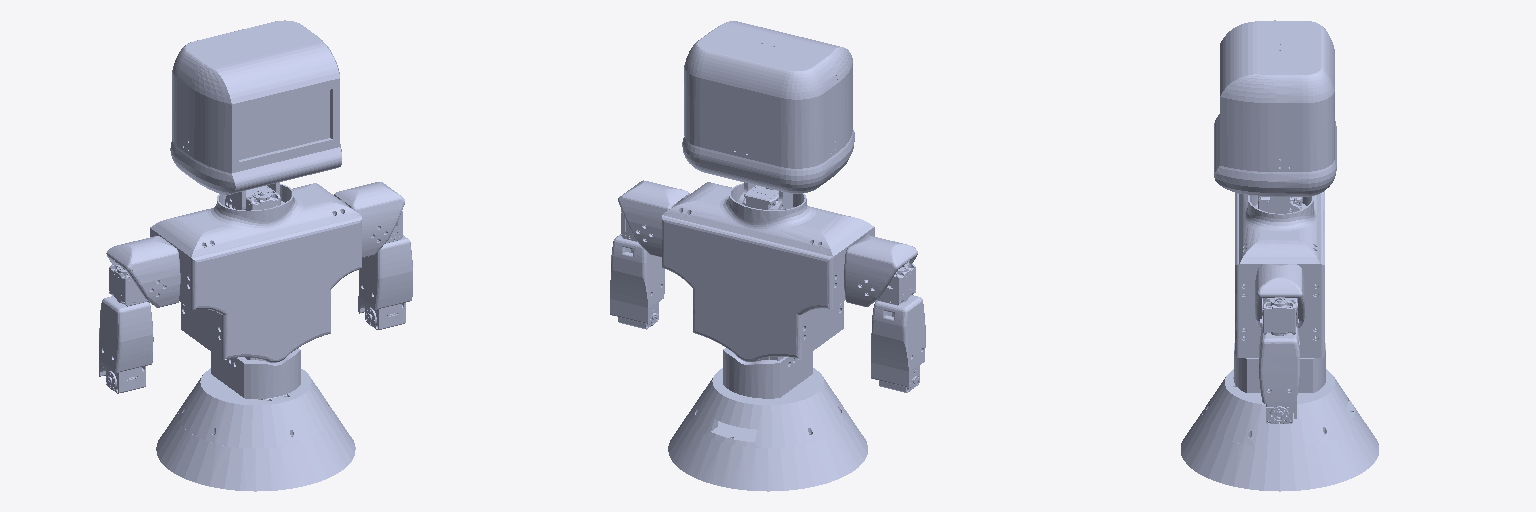
URDF robot description (yaren_description):
<?xml version="1.0" encoding="utf-8"?>
<!-- This URDF was automatically created by SolidWorks to URDF Exporter! Originally created by [author] ([email redacted]) 
     Commit Version: 1.6.0-4-g7f85cfe  Build Version: 1.6.7995.38578
     For more information, please see http://wiki.ros.org/sw_urdf_exporter -->
<robot
  name="yaren_description">
  
<link name="world"/>
 <joint name="base_joint" type="fixed">
    <parent link="world"/>
    <child link="base_link"/>
 <origin rpy="0 0 0" xyz="0.0 0.0 0.0"/>
 </joint>


  <link
    name="base_link">
    <inertial>
      <origin
        xyz="-0.0111941484552959 -0.0368458795873965 0.215654266051241"
        rpy="0 0 0" />
      <mass
        value="1.36786443462294" />
      <inertia
        ixx="0.00319634955740371"
        ixy="-1.60882455550443E-08"
        ixz="1.653324392476E-08"
        iyy="0.00601731472918889"
        iyz="4.74472482698139E-06"
        izz="0.00319515652843736" />
    </inertial>
    <visual>
      <origin
        xyz="0 0 0"
        rpy="0 0 0" />
      <geometry>
        <mesh
          filename="package://yaren_description/meshes/base_link.STL" />
      </geometry>
      <material
        name="">
        <color
          rgba="0.792156862745098 0.819607843137255 0.933333333333333 1" />
      </material>
    </visual>
    <collision>
      <origin
        xyz="0 0 0"
        rpy="0 0 0" />
      <geometry>
        <mesh
          filename="package://yaren_description/meshes/base_link.STL" />
      </geometry>
    </collision>
  </link>
  <link
    name="Link_1">
    <inertial>
      <origin
        xyz="-0.0005406 0.03067 1.1225E-05"
        rpy="0 0 0" />
      <mass
        value="0.2613" />
      <inertia
        ixx="0.00014283"
        ixy="-8.1832E-07"
        ixz="-7.2665E-08"
        iyy="0.0002383"
        iyz="2.7932E-08"
        izz="0.00019886" />
    </inertial>
    <visual>
      <origin
        xyz="0 0 0"
        rpy="0 0 0" />
      <geometry>
        <mesh
          filename="package://yaren_description/meshes/Link_1.STL" />
      </geometry>
      <material
        name="">
        <color
          rgba="0.79216 0.81961 0.93333 1" />
      </material>
    </visual>
    <collision>
      <origin
        xyz="0 0 0"
        rpy="0 0 0" />
      <geometry>
        <mesh
          filename="package://yaren_description/meshes/Link_1.STL" />
      </geometry>
    </collision>
  </link>
  <joint
    name="Joint_1"
    type="continuous">
    <origin
      xyz="-0.011194 -0.21508 0.020523"
      rpy="1.5708 0 1.5708" />
    <parent
      link="base_link" />
    <child
      link="Link_1" />
    <axis
      xyz="0 1 0" />
    <limit
      lower="-0.7853"
      upper="0.7853"
      effort="8"
      velocity="3" />
  </joint>
  <link
    name="Link_2">
    <inertial>
      <origin
        xyz="-0.000190222232464078 0.0708879423019347 0.000625518405545505"
        rpy="0 0 0" />
      <mass
        value="0.752173682094854" />
      <inertia
        ixx="0.00132133401185399"
        ixy="2.62707187219377E-06"
        ixz="-3.81385205187914E-07"
        iyy="0.00295410852126555"
        iyz="3.20008645844586E-06"
        izz="0.00376203398380604" />
    </inertial>
    <visual>
      <origin
        xyz="0 0 0"
        rpy="0 0 0" />
      <geometry>
        <mesh
          filename="package://yaren_description/meshes/Link_2.STL" />
      </geometry>
      <material
        name="">
        <color
          rgba="0.792156862745098 0.819607843137255 0.933333333333333 1" />
      </material>
    </visual>
    <collision>
      <origin
        xyz="0 0 0"
        rpy="0 0 0" />
      <geometry>
        <mesh
          filename="package://yaren_description/meshes/Link_2.STL" />
      </geometry>
    </collision>
  </link>
  <joint
    name="Joint_2"
    type="continuous">
    <origin
      xyz="0 0.0715 0"
      rpy="0 1.5708 0" />
    <parent
      link="Link_1" />
    <child
      link="Link_2" />
    <axis
      xyz="0 0 -1" />
    <limit
      lower="-0.5235"
      upper="0.5235"
      effort="8"
      velocity="3" />
  </joint>
  <link
    name="Link_3">
    <inertial>
      <origin
        xyz="0.000495971669348293 -0.0119998498234008 0.0204959038479089"
        rpy="0 0 0" />
      <mass
        value="0.0569176449626117" />
      <inertia
        ixx="1.43924905181448E-05"
        ixy="5.82487770418226E-10"
        ixz="3.44003420258986E-07"
        iyy="1.02302750414368E-05"
        iyz="-7.69908311920794E-10"
        izz="1.43925070402999E-05" />
    </inertial>
    <visual>
      <origin
        xyz="0 0 0"
        rpy="0 0 0" />
      <geometry>
        <mesh
          filename="package://yaren_description/meshes/Link_3.STL" />
      </geometry>
      <material
        name="">
        <color
          rgba="0.792156862745098 0.819607843137255 0.933333333333333 1" />
      </material>
    </visual>
    <collision>
      <origin
        xyz="0 0 0"
        rpy="0 0 0" />
      <geometry>
        <mesh
          filename="package://yaren_description/meshes/Link_3.STL" />
      </geometry>
    </collision>
  </link>
  <joint
    name="Joint_3"
    type="continuous">
    <origin
      xyz="0 0.1145 -0.012"
      rpy="-1.5708 0 0" />
    <parent
      link="Link_2" />
    <child
      link="Link_3" />
    <axis
      xyz="0 0 1" />
    <limit
      lower="-0.5235"
      upper="0.5235"
      effort="1.6"
      velocity="3" />
  </joint>
  <link
    name="Link_4">
    <inertial>
      <origin
        xyz="0.0257730881315095 0.110638538546991 -2.15593630046793E-05"
        rpy="0 0 0" />
      <mass
        value="0.654995275916393" />
      <inertia
        ixx="0.00271318373791796"
        ixy="-0.000252216333937308"
        ixz="3.36179957582485E-08"
        iyy="0.00217737319159254"
        iyz="-8.29088092668815E-08"
        izz="0.00164342941943313" />
    </inertial>
    <visual>
      <origin
        xyz="0 0 0"
        rpy="0 0 0" />
      <geometry>
        <mesh
          filename="package://yaren_description/meshes/Link_4.STL" />
      </geometry>
      <material
        name="">
        <color
          rgba="0.792156862745098 0.819607843137255 0.933333333333333 1" />
      </material>
    </visual>
    <collision>
      <origin
        xyz="0 0 0"
        rpy="0 0 0" />
      <geometry>
        <mesh
          filename="package://yaren_description/meshes/Link_4.STL" />
      </geometry>
    </collision>
  </link>
  <joint
    name="Joint_4"
    type="continuous">
    <origin
      xyz="0 -0.024 0.02"
      rpy="1.5708 0 1.5708" />
    <parent
      link="Link_3" />
    <child
      link="Link_4" />
    <axis
      xyz="0 0 -1" />
    <limit
      lower="-0.2617"
      upper="0.7853"
      effort="1.6"
      velocity="3" />
  </joint>
  <link
    name="Link_5">
    <inertial>
      <origin
        xyz="-0.0259375957022937 -0.00908743775212059 0.000103197554779999"
        rpy="0 0 0" />
      <mass
        value="0.0584361592248743" />
      <inertia
        ixx="4.61729756791954E-05"
        ixy="7.84451983246522E-06"
        ixz="3.48634553727113E-08"
        iyy="4.22765133678202E-05"
        iyz="4.9258866345132E-08"
        izz="4.20873707387468E-05" />
    </inertial>
    <visual>
      <origin
        xyz="0 0 0"
        rpy="0 0 0" />
      <geometry>
        <mesh
          filename="package://yaren_description/meshes/Link_5.STL" />
      </geometry>
      <material
        name="">
        <color
          rgba="0.792156862745098 0.819607843137255 0.933333333333333 1" />
      </material>
    </visual>
    <collision>
      <origin
        xyz="0 0 0"
        rpy="0 0 0" />
      <geometry>
        <mesh
          filename="package://yaren_description/meshes/Link_5.STL" />
      </geometry>
    </collision>
  </link>
  <joint
    name="Joint_5"
    type="continuous">
    <origin
      xyz="0.10575 0.09925 0"
      rpy="3.1416 0 3.1416" />
    <parent
      link="Link_2" />
    <child
      link="Link_5" />
    <axis
      xyz="-1 0 0" />
    <limit
      lower="-0.7853"
      upper="1.5708"
      effort="1.6"
      velocity="3" />
  </joint>
  <link
    name="Link_6">
    <inertial>
      <origin
        xyz="0.00049597 -0.012 0.0009664"
        rpy="0 0 0" />
      <mass
        value="0.056918" />
      <inertia
        ixx="1.4392E-05"
        ixy="5.8249E-10"
        ixz="3.44E-07"
        iyy="1.023E-05"
        iyz="-7.6991E-10"
        izz="1.4393E-05" />
    </inertial>
    <visual>
      <origin
        xyz="0 0 0"
        rpy="0 0 0" />
      <geometry>
        <mesh
          filename="package://yaren_description/meshes/Link_6.STL" />
      </geometry>
      <material
        name="">
        <color
          rgba="0.79216 0.81961 0.93333 1" />
      </material>
    </visual>
    <collision>
      <origin
        xyz="0 0 0"
        rpy="0 0 0" />
      <geometry>
        <mesh
          filename="package://yaren_description/meshes/Link_6.STL" />
      </geometry>
    </collision>
  </link>
  <joint
    name="Joint_6"
    type="continuous">
    <origin
      xyz="-0.031746 -0.0195 0"
      rpy="0 0 -1.5708" />
    <parent
      link="Link_5" />
    <child
      link="Link_6" />
    <axis
      xyz="0 0 -1" />
    <limit
      lower="0"
      upper="1.0472"
      effort="1.6"
      velocity="3" />
  </joint>
  <link
    name="Link_7">
    <inertial>
      <origin
        xyz="0.054314 -0.00044243 0.0001739"
        rpy="0 0 0" />
      <mass
        value="0.11298" />
      <inertia
        ixx="3.5352E-05"
        ixy="1.8584E-06"
        ixz="-1.6775E-07"
        iyy="6.1931E-05"
        iyz="7.6246E-08"
        izz="6.332E-05" />
    </inertial>
    <visual>
      <origin
        xyz="0 0 0"
        rpy="0 0 0" />
      <geometry>
        <mesh
          filename="package://yaren_description/meshes/Link_7.STL" />
      </geometry>
      <material
        name="">
        <color
          rgba="0.79216 0.81961 0.93333 1" />
      </material>
    </visual>
    <collision>
      <origin
        xyz="0 0 0"
        rpy="0 0 0" />
      <geometry>
        <mesh
          filename="package://yaren_description/meshes/Link_7.STL" />
      </geometry>
    </collision>
  </link>
  <joint
    name="Joint_7"
    type="continuous">
    <origin
      xyz="0.019 -0.024 0.00047052"
      rpy="1.5708 0 0" />
    <parent
      link="Link_6" />
    <child
      link="Link_7" />
    <axis
      xyz="-1 0 0" />
    <limit
      lower="-0.7853"
      upper="0.7853"
      effort="1.6"
      velocity="3" />
  </joint>
  <link
    name="Link_8">
    <inertial>
      <origin
        xyz="-0.0406501147947644 -0.00104645226824338 -0.00681375552158017"
        rpy="0 0 0" />
      <mass
        value="0.0489075786054985" />
      <inertia
        ixx="1.84365898866349E-05"
        ixy="-2.71874728346205E-06"
        ixz="3.04771644692066E-06"
        iyy="3.91073424807853E-05"
        iyz="1.74082743559878E-07"
        izz="4.33443091972181E-05" />
    </inertial>
    <visual>
      <origin
        xyz="0 0 0"
        rpy="0 0 0" />
      <geometry>
        <mesh
          filename="package://yaren_description/meshes/Link_8.STL" />
      </geometry>
      <material
        name="">
        <color
          rgba="0.792156862745098 0.819607843137255 0.933333333333333 1" />
      </material>
    </visual>
    <collision>
      <origin
        xyz="0 0 0"
        rpy="0 0 0" />
      <geometry>
        <mesh
          filename="package://yaren_description/meshes/Link_8.STL" />
      </geometry>
    </collision>
  </link>
  <joint
    name="Joint_8"
    type="continuous">
    <origin
      xyz="0.09125 0 0"
      rpy="1.5708 0 -2.9337" />
    <parent
      link="Link_7" />
    <child
      link="Link_8" />
    <axis
      xyz="0 1 0" />
    <limit
      lower="0.1745"
      upper="1.5708"
      effort="1.6"
      velocity="3" />
  </joint>
  <link
    name="Link_9">
    <inertial>
      <origin
        xyz="-0.0259376058181659 -0.00908742969104881 0.000103191384414891"
        rpy="0 0 0" />
      <mass
        value="0.0584361879389782" />
      <inertia
        ixx="4.61729927569023E-05"
        ixy="7.8445262778698E-06"
        ixz="3.48491072940375E-08"
        iyy="4.22765448632234E-05"
        iyz="4.92631426665094E-08"
        izz="4.20874015682008E-05" />
    </inertial>
    <visual>
      <origin
        xyz="0 0 0"
        rpy="0 0 0" />
      <geometry>
        <mesh
          filename="package://yaren_description/meshes/Link_9.STL" />
      </geometry>
      <material
        name="">
        <color
          rgba="0.792156862745098 0.819607843137255 0.933333333333333 1" />
      </material>
    </visual>
    <collision>
      <origin
        xyz="0 0 0"
        rpy="0 0 0" />
      <geometry>
        <mesh
          filename="package://yaren_description/meshes/Link_9.STL" />
      </geometry>
    </collision>
  </link>
  <joint
    name="Joint_9"
    type="continuous">
    <origin
      xyz="-0.105754230884312 0.0992500000000003 0"
      rpy="0 0 0" />
    <parent
      link="Link_2" />
    <child
      link="Link_9" />
    <axis
      xyz="1 0 0" />
    <limit
      lower="-0.7853"
      upper="1.5708"
      effort="1.6"
      velocity="3" />
  </joint>
  <link
    name="Link_10">
    <inertial>
      <origin
        xyz="0.000495971821796476 -0.0119998501814707 -3.36042384202762E-05"
        rpy="0 0 0" />
      <mass
        value="0.0569176449626118" />
      <inertia
        ixx="1.43924905181448E-05"
        ixy="5.82487770418555E-10"
        ixz="3.44003420258988E-07"
        iyy="1.02302750414368E-05"
        iyz="-7.69908311916828E-10"
        izz="1.43925070402999E-05" />
    </inertial>
    <visual>
      <origin
        xyz="0 0 0"
        rpy="0 0 0" />
      <geometry>
        <mesh
          filename="package://yaren_description/meshes/Link_10.STL" />
      </geometry>
      <material
        name="">
        <color
          rgba="0.792156862745098 0.819607843137255 0.933333333333333 1" />
      </material>
    </visual>
    <collision>
      <origin
        xyz="0 0 0"
        rpy="0 0 0" />
      <geometry>
        <mesh
          filename="package://yaren_description/meshes/Link_10.STL" />
      </geometry>
    </collision>
  </link>
  <joint
    name="Joint_10"
    type="continuous">
    <origin
      xyz="-0.031745769115688 -0.0195 0"
      rpy="0 0 -1.5707963267949" />
    <parent
      link="Link_9" />
    <child
      link="Link_10" />
    <axis
      xyz="0 0 -1" />
    <limit
      lower="0"
      upper="1.0472"
      effort="1.6"
      velocity="3" />
  </joint>
  <link
    name="Link_11">
    <inertial>
      <origin
        xyz="0.0543141046649694 -0.000442428552246021 0.000173899794023963"
        rpy="0 0 0" />
      <mass
        value="0.112981340262659" />
      <inertia
        ixx="3.53515307711419E-05"
        ixy="1.85838536575219E-06"
        ixz="-1.6774927411348E-07"
        iyy="6.19311405547795E-05"
        iyz="7.62455333737013E-08"
        izz="6.3319777994899E-05" />
    </inertial>
    <visual>
      <origin
        xyz="0 0 0"
        rpy="0 0 0" />
      <geometry>
        <mesh
          filename="package://yaren_description/meshes/Link_11.STL" />
      </geometry>
      <material
        name="">
        <color
          rgba="0.792156862745098 0.819607843137255 0.933333333333333 1" />
      </material>
    </visual>
    <collision>
      <origin
        xyz="0 0 0"
        rpy="0 0 0" />
      <geometry>
        <mesh
          filename="package://yaren_description/meshes/Link_11.STL" />
      </geometry>
    </collision>
  </link>
  <joint
    name="Joint_11"
    type="continuous">
    <origin
      xyz="0.0190000001524479 -0.0240000007161399 -0.000529483238776968"
      rpy="-1.5707963267949 0 0" />
    <parent
      link="Link_10" />
    <child
      link="Link_11" />
    <axis
      xyz="-1 0 0" />
    <limit
      lower="-0.7853"
      upper="0.7853"
      effort="1.6"
      velocity="3" />
  </joint>
  <link
    name="Link_12">
    <inertial>
      <origin
        xyz="-0.03802 0.0036356 -0.0065218"
        rpy="0 0 0" />
      <mass
        value="0.040449" />
      <inertia
        ixx="1.5216E-05"
        ixy="2.5355E-06"
        ixz="2.6893E-06"
        iyy="3.2043E-05"
        iyz="-2.2072E-07"
        izz="3.5871E-05" />
    </inertial>
    <visual>
      <origin
        xyz="0 0 0"
        rpy="0 0 0" />
      <geometry>
        <mesh
          filename="package://yaren_description/meshes/Link_12.STL" />
      </geometry>
      <material
        name="">
        <color
          rgba="0.79216 0.81961 0.93333 1" />
      </material>
    </visual>
    <collision>
      <origin
        xyz="0 0 0"
        rpy="0 0 0" />
      <geometry>
        <mesh
          filename="package://yaren_description/meshes/Link_12.STL" />
      </geometry>
    </collision>
  </link>
  <joint
    name="Joint_12"
    type="continuous">
    <origin
      xyz="0.09125 0 0"
      rpy="1.5707963267949 0 -2.91667493011268" />
    <parent
      link="Link_11" />
    <child
      link="Link_12" />
    <axis
      xyz="0 1 0" />
    <limit
      lower="0.1745"
      upper="1.5708"
      effort="1.6"
      velocity="3" />
  </joint>
</robot>

--- Render facts (derived) ---
3 views of the same robot in one strip: view 1: azimuth 30°, elevation 25°; view 2: azimuth 150°, elevation 25°; view 3: azimuth 270°, elevation 25° (orthographic).
Model yaren_description with 14 links and 13 joints (12 continuous, 1 fixed), rooted at world, posed all joints at 0.
Links seen in each view (by area): view 1: Link_2, Link_4, base_link, Link_7, Link_11, Link_5, Link_1, Link_9, Link_6, Link_3; view 2: Link_2, Link_4, base_link, Link_7, Link_11, Link_5, Link_1, Link_9, Link_6, Link_3; view 3: Link_4, base_link, Link_2, Link_11, Link_9, Link_1, Link_10.
Boxes of the visible links, x1,y1,x2,y2 form: Link_2: (150, 183, 361, 362); Link_4: (170, 20, 341, 209); base_link: (156, 368, 355, 491); Link_7: (99, 296, 153, 393); Link_11: (358, 235, 412, 329); Link_5: (106, 236, 180, 307); Link_1: (211, 348, 300, 398); Link_9: (334, 182, 404, 257); Link_6: (109, 265, 147, 306); Link_3: (232, 185, 280, 210); Link_2: (662, 182, 874, 361); Link_4: (682, 21, 854, 209); base_link: (668, 368, 867, 491); Link_7: (871, 295, 925, 392); Link_11: (610, 234, 664, 329); Link_5: (844, 235, 917, 306); Link_1: (723, 348, 812, 398); Link_9: (618, 180, 689, 256); Link_6: (877, 262, 915, 305); Link_3: (743, 185, 792, 209); Link_4: (1214, 20, 1336, 213); base_link: (1181, 369, 1378, 491); Link_2: (1235, 191, 1324, 357); Link_11: (1259, 327, 1299, 423); Link_9: (1255, 264, 1304, 327); Link_1: (1234, 343, 1325, 392); Link_10: (1262, 297, 1297, 335).
Size in the robot's own frame: 0.37 by 0.2149 by 0.4785 metres.
Meshes: 13 distinct files referenced, 11 mesh visuals loaded (11 binary STL); not drawn: 2 (reference not matched to a file when rendering).
